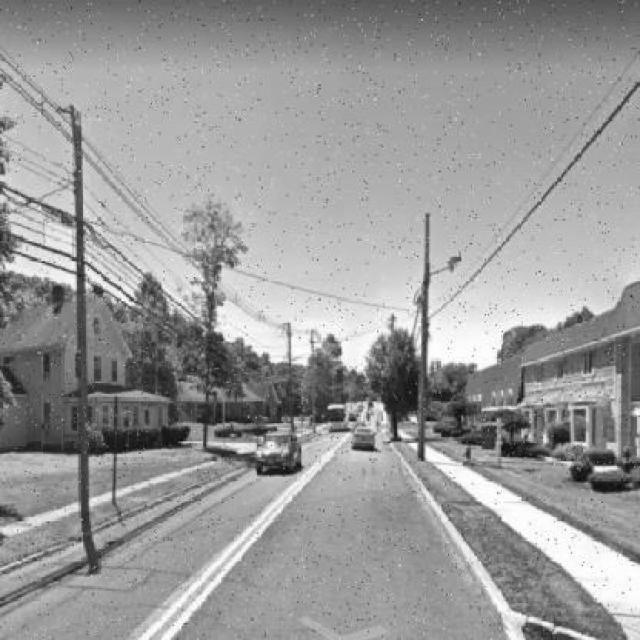pole: (26, 52, 122, 592), (400, 197, 466, 471)
